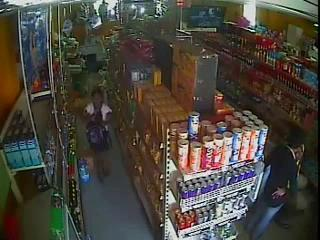Normal: (245, 123, 302, 240)
